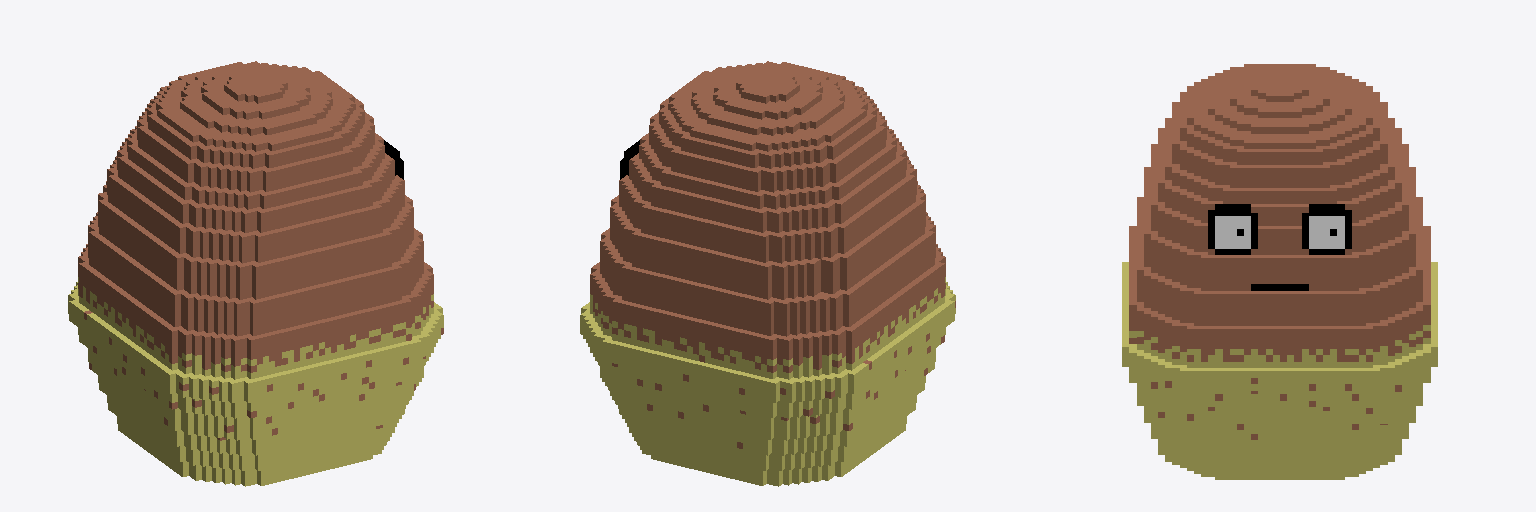
3 views of the same model, side by side, from view 1: azimuth 30°, elevation 25°; view 2: azimuth 150°, elevation 25°; view 3: azimuth 270°, elevation 25° (orthographic).
Parts seen in each view (by area): view 1: object 1; view 2: object 1; view 3: object 1.
Boxes of the visible parts, x1=… form: object 1: x1=68, y1=61, x2=443, y2=486; object 1: x1=580, y1=61, x2=955, y2=486; object 1: x1=1122, y1=64, x2=1437, y2=479.
Bounding box in the file's own units: 4.4 × 5.3 × 4.4.
Materials: 1 (1 with a texture image).